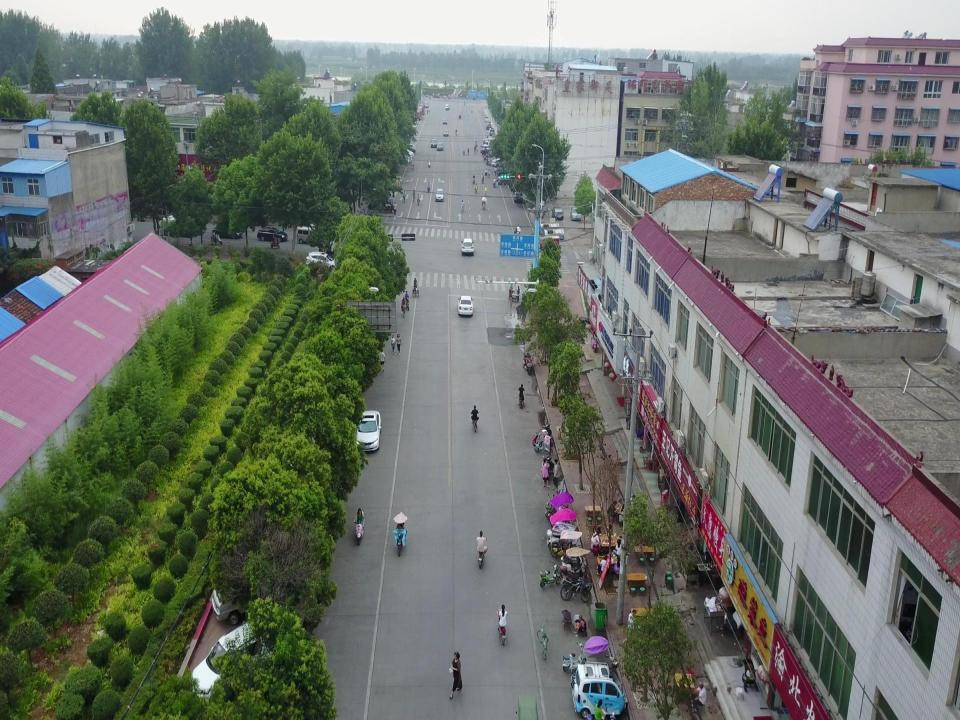car: (192, 621, 283, 703), (354, 409, 382, 452), (157, 210, 195, 236), (305, 252, 337, 272), (213, 219, 243, 239), (257, 225, 287, 243), (457, 296, 474, 316), (461, 239, 475, 256), (552, 205, 564, 220), (498, 175, 514, 185), (571, 205, 581, 221), (492, 157, 506, 167), (434, 189, 444, 202), (514, 191, 523, 203), (403, 149, 413, 157), (405, 148, 416, 154), (415, 111, 421, 120), (437, 142, 443, 151), (486, 122, 492, 130), (431, 139, 437, 147), (488, 127, 494, 134), (444, 130, 449, 136), (486, 119, 490, 126), (442, 118, 446, 124), (424, 103, 428, 108), (484, 117, 488, 122)
truck: (417, 106, 423, 116), (419, 105, 425, 114)
van: (214, 564, 290, 625), (297, 226, 320, 243), (497, 170, 507, 178), (404, 143, 414, 150), (445, 105, 449, 110)
